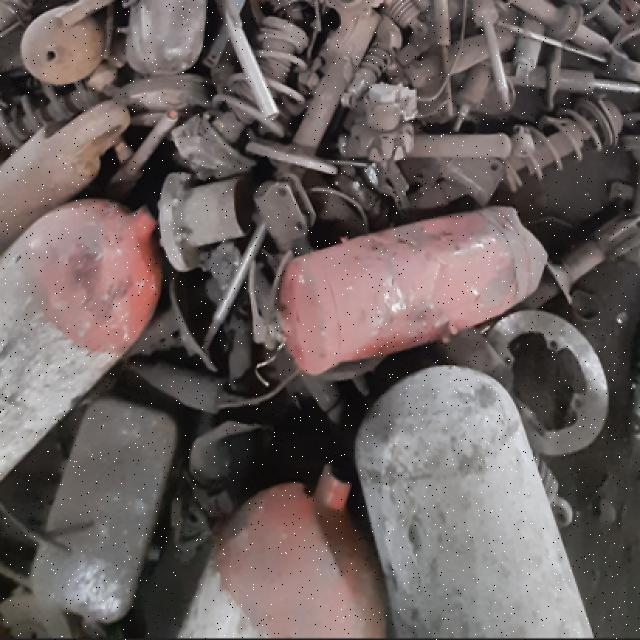cylinder: (248, 207, 532, 377)
shock absorber: (500, 89, 626, 196), (341, 23, 397, 108)
